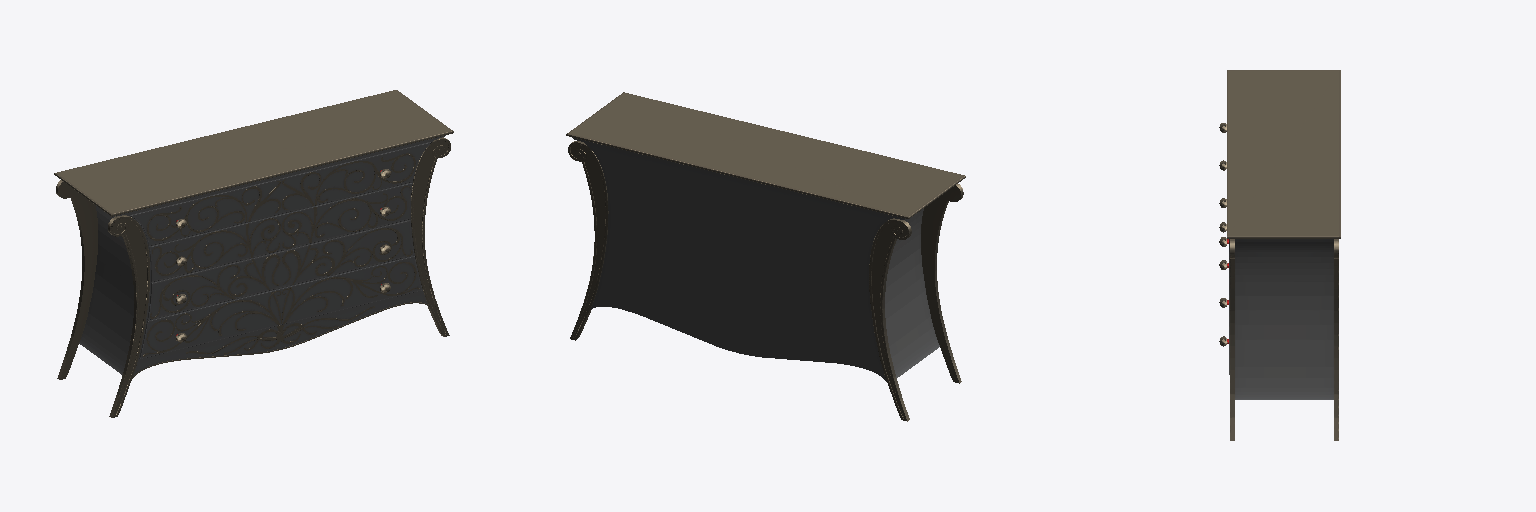
3 views of the same model, side by side, from view 1: azimuth 30°, elevation 25°; view 2: azimuth 150°, elevation 25°; view 3: azimuth 270°, elevation 25° (orthographic).
Visible parts, largest first — view 1: solid_001, solid_002; view 2: solid_001, solid_002; view 3: solid_002, solid_001.
Part boxes in pixels (bbox=[...]): solid_001: bbox=[79, 135, 445, 375]; solid_002: bbox=[54, 90, 453, 417]; solid_001: bbox=[572, 137, 939, 381]; solid_002: bbox=[566, 92, 965, 421]; solid_002: bbox=[1219, 70, 1340, 440]; solid_001: bbox=[1229, 239, 1333, 399].
Bounding box in the file's own units: 1.86 × 1.07 × 0.5714.
Materials: 1 (1 with a texture image).